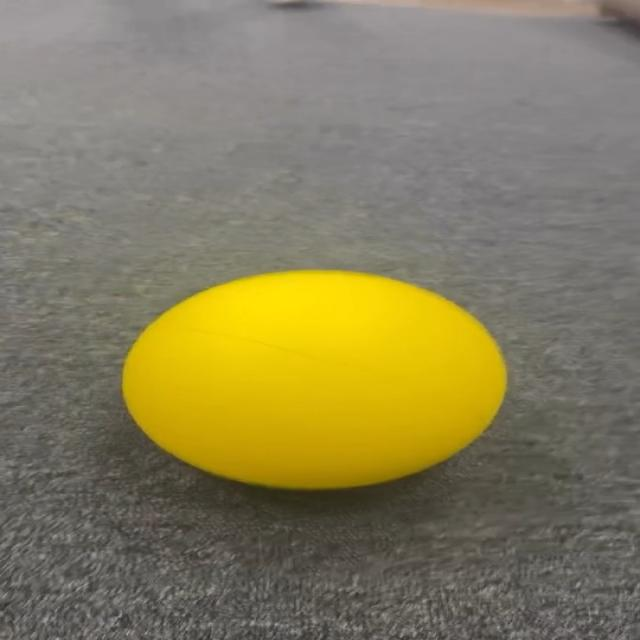Fuels: (120, 267, 500, 485)
